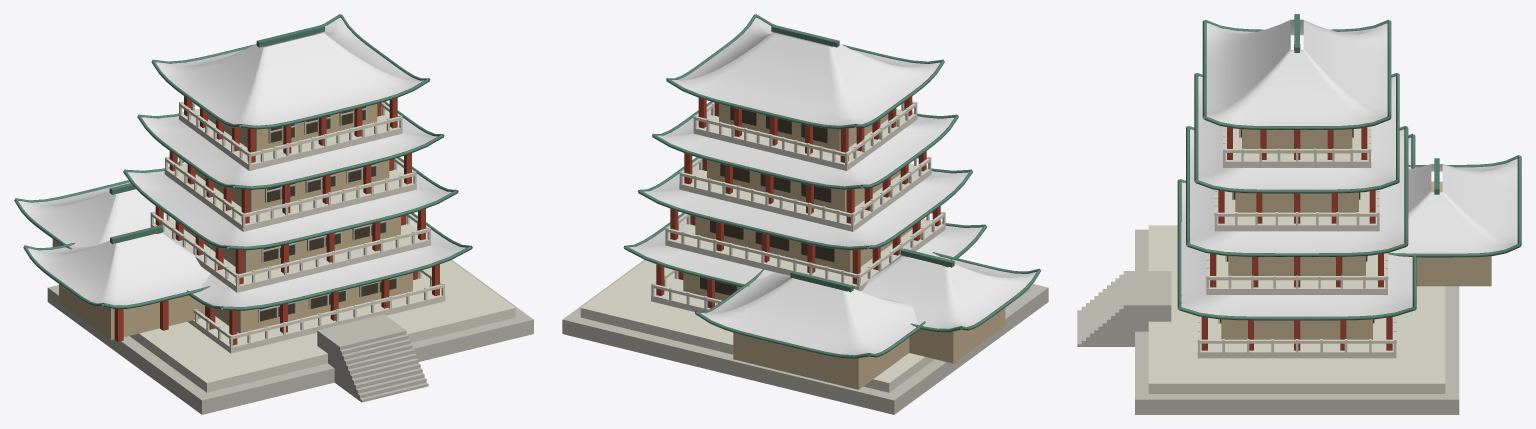
File: nanjing_detail.glb
The picture shows the model from 3 angles, left to right: view 1: azimuth 30°, elevation 25°; view 2: azimuth 150°, elevation 25°; view 3: azimuth 270°, elevation 25°; orthographic projection. The views are drawn at different scales.
Visible parts, largest first — view 1: Glazed roof tile seams.003, terrace, foundation, Glazed roof tile seams.004, Glazed roof tile seams.001, Glazed roof tile seams.002, Glazed roof tile seams, Glazed roof tile seams.005, gallery floor.001, gallery floor, gallery floor.002, wing body (+26 smaller); view 2: Glazed roof tile seams.003, Glazed roof tile seams.005, foundation, Glazed roof tile seams.004, Glazed roof tile seams.001, terrace, Glazed roof tile seams.002, wing body.001, Glazed roof tile seams, gallery floor.002, gallery floor.001, gallery floor.003 (+20 smaller); view 3: terrace, Glazed roof tile seams.003, foundation, Glazed roof tile seams.005, Glazed roof tile seams.001, Glazed roof tile seams, Glazed roof tile seams.002, gallery floor, gallery floor.001, gallery floor.002, story body, front stair.011 (+23 smaller).
Boxes of the visible parts, x1,y1,x2,y2 form: Glazed roof tile seams.003: [155, 17, 423, 125]; terrace: [129, 260, 515, 392]; foundation: [47, 260, 533, 414]; Glazed roof tile seams.004: [27, 232, 210, 305]; Glazed roof tile seams.001: [127, 161, 451, 247]; Glazed roof tile seams.002: [141, 107, 437, 186]; Glazed roof tile seams: [193, 216, 466, 308]; Glazed roof tile seams.005: [18, 162, 186, 247]; gallery floor.001: [150, 218, 430, 292]; gallery floor: [187, 276, 445, 353]; gallery floor.002: [164, 163, 416, 231]; wing body: [59, 284, 204, 340]; Glazed roof tile seams.003: [672, 17, 940, 125]; Glazed roof tile seams.005: [701, 272, 917, 355]; foundation: [562, 259, 1048, 414]; Glazed roof tile seams.004: [840, 255, 1036, 328]; Glazed roof tile seams.001: [644, 161, 968, 247]; terrace: [580, 260, 1030, 392]; Glazed roof tile seams.002: [657, 107, 954, 186]; wing body.001: [733, 332, 909, 389]; Glazed roof tile seams: [629, 216, 982, 290]; gallery floor.002: [679, 163, 931, 231]; gallery floor.001: [665, 218, 945, 291]; gallery floor.003: [693, 108, 917, 170]; terrace: [1148, 225, 1445, 393]; Glazed roof tile seams.003: [1204, 19, 1387, 125]; foundation: [1135, 229, 1459, 414]; Glazed roof tile seams.005: [1392, 158, 1519, 253]; Glazed roof tile seams.001: [1188, 129, 1406, 253]; Glazed roof tile seams: [1181, 182, 1412, 316]; Glazed roof tile seams.002: [1196, 76, 1397, 189]; gallery floor: [1197, 316, 1396, 358]; gallery floor.001: [1206, 253, 1387, 294]; gallery floor.002: [1214, 190, 1379, 231]; story body: [1221, 319, 1372, 339]; front stair.011: [1123, 271, 1171, 345].
Bounding box in the file's own units: 8.21 × 5.89 × 7.93.
